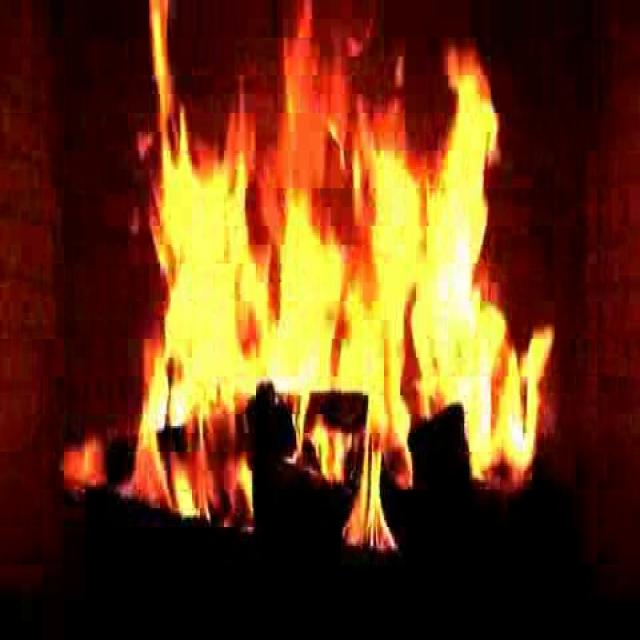fire: (102, 56, 536, 523)
